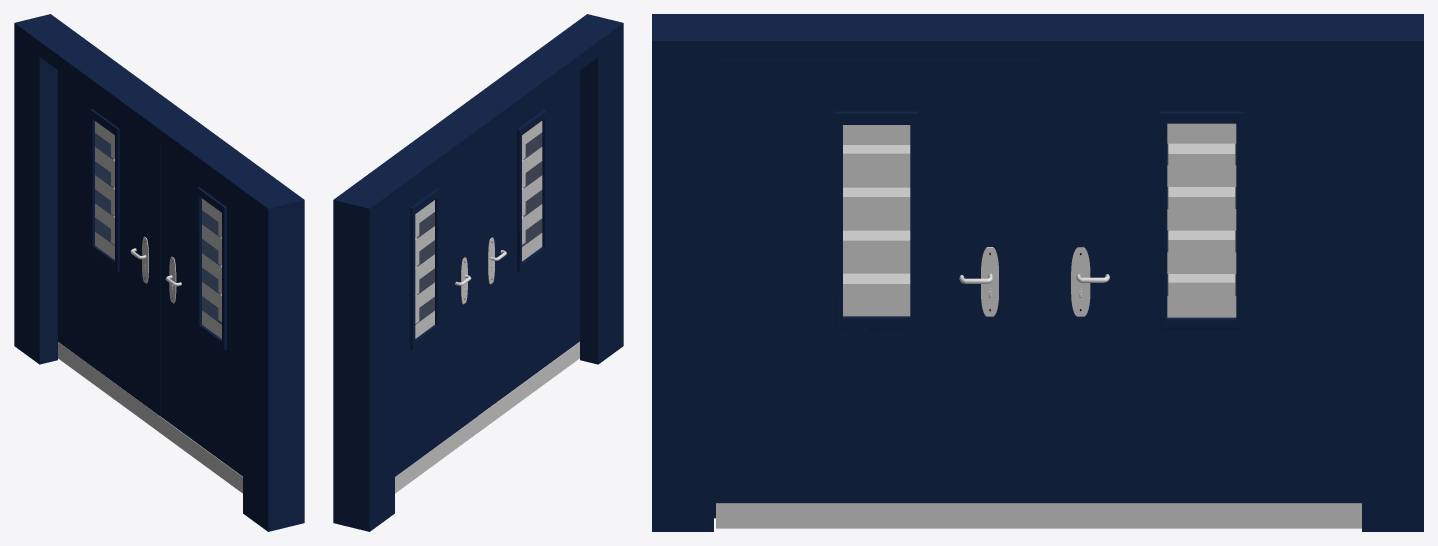
Rendered from door 100.fbx.
3 renders of one model, left to right at view 1: azimuth 30°, elevation 25°; view 2: azimuth 150°, elevation 25°; view 3: azimuth 270°, elevation 25°, orthographic. The views are drawn at different scales.
Parts seen in each view (by area): view 1: DoorFrame, Cube.168, Cube.189; view 2: DoorFrame, Cube.189, Cube.168; view 3: Cube.189, Cube.168, DoorFrame.
Part boxes in pixels (left/top/right/bottom): DoorFrame: left=14, top=14, right=304, bottom=531; Cube.168: left=58, top=70, right=160, bottom=431; Cube.189: left=159, top=145, right=242, bottom=493; DoorFrame: left=333, top=14, right=623, bottom=531; Cube.189: left=477, top=70, right=579, bottom=432; Cube.168: left=395, top=145, right=477, bottom=493; Cube.189: left=716, top=59, right=1040, bottom=528; Cube.168: left=1038, top=59, right=1361, bottom=528; DoorFrame: left=652, top=14, right=1423, bottom=531.
Bounding box in the file's own units: 50.01 × 349 × 498.
